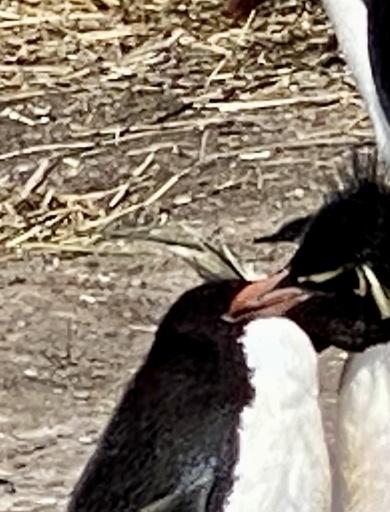Southern Rockhopper Penguin: (11, 161, 351, 512), (211, 135, 390, 512)
